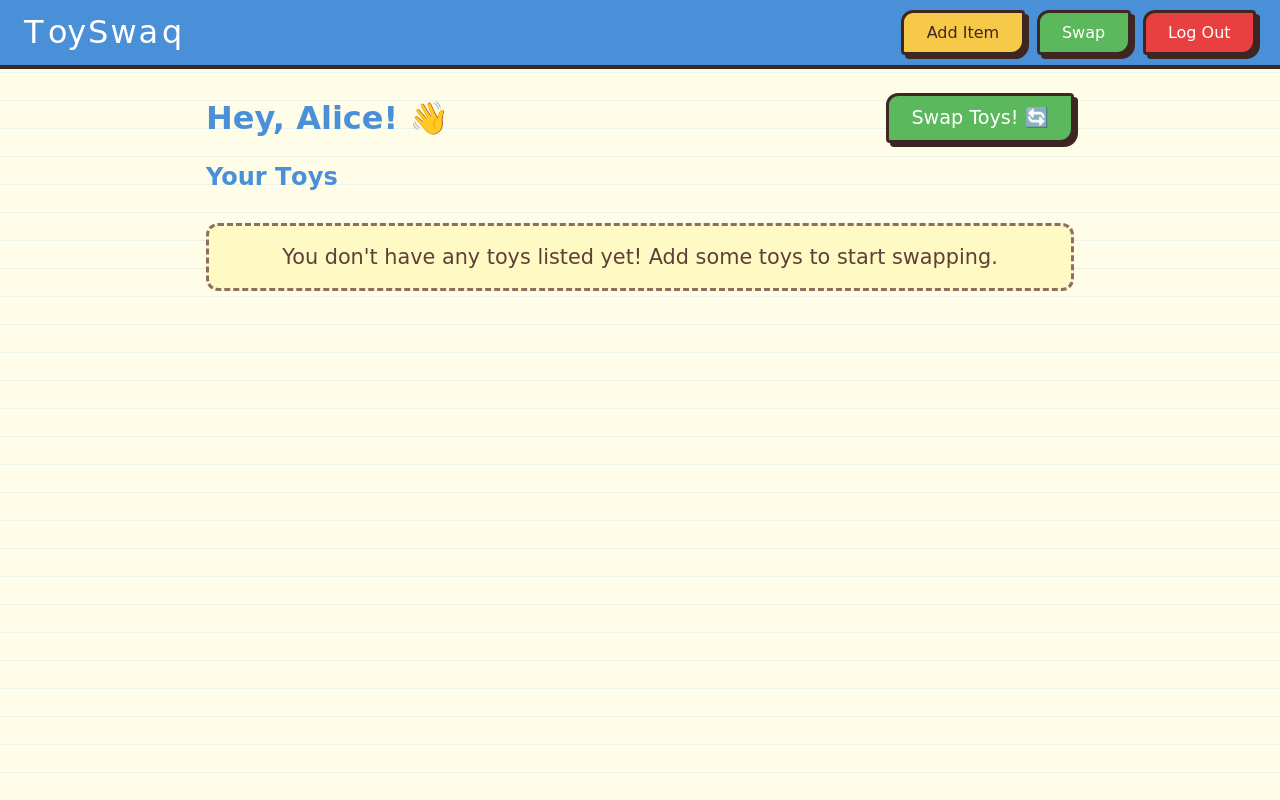
Test: HomePage › "Swap Toys!" button shows inline error when user has no items
expect the text "Add some toys" is shown: met, box [282,245,998,269]
Click the button "Swap Toys! 🔄": (980, 118) [886,93,1074,143]
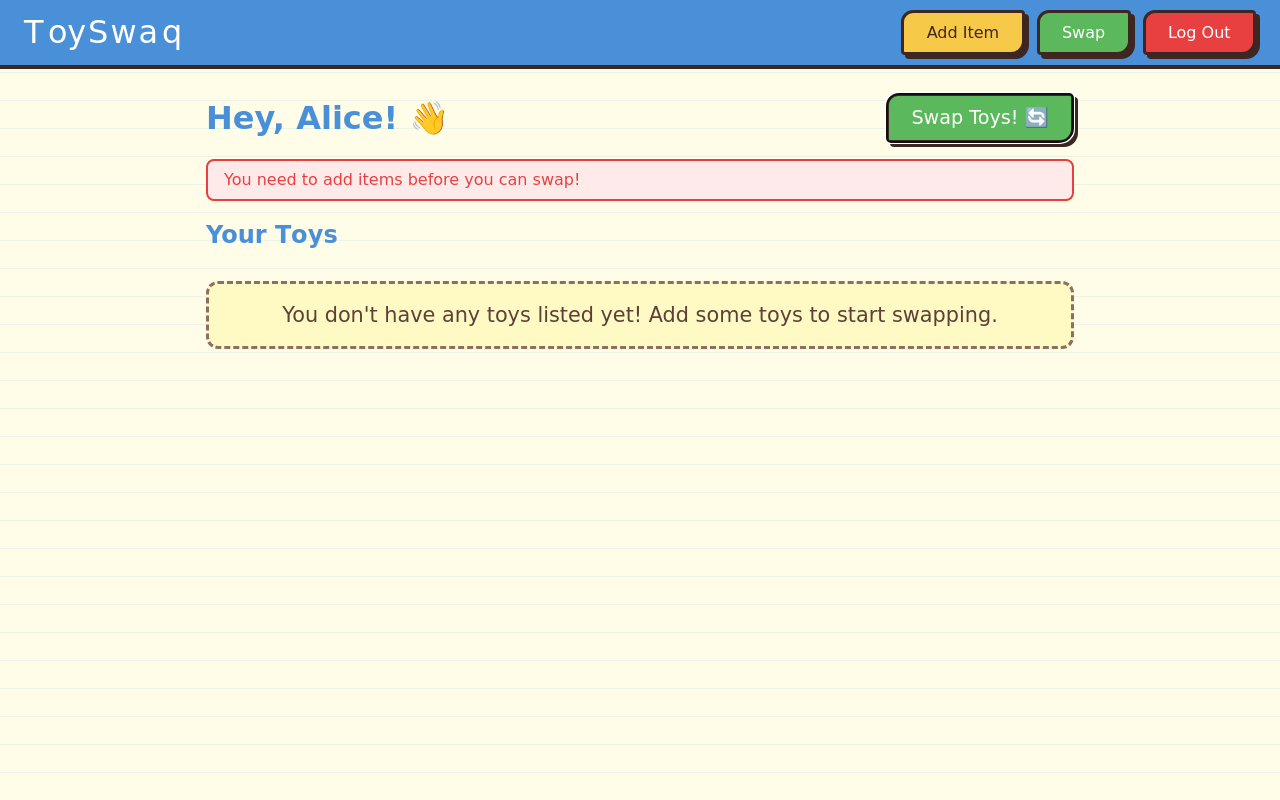
expect the text "You need to add items before you can swap!" is shown: met, box [206,159,1074,201]
